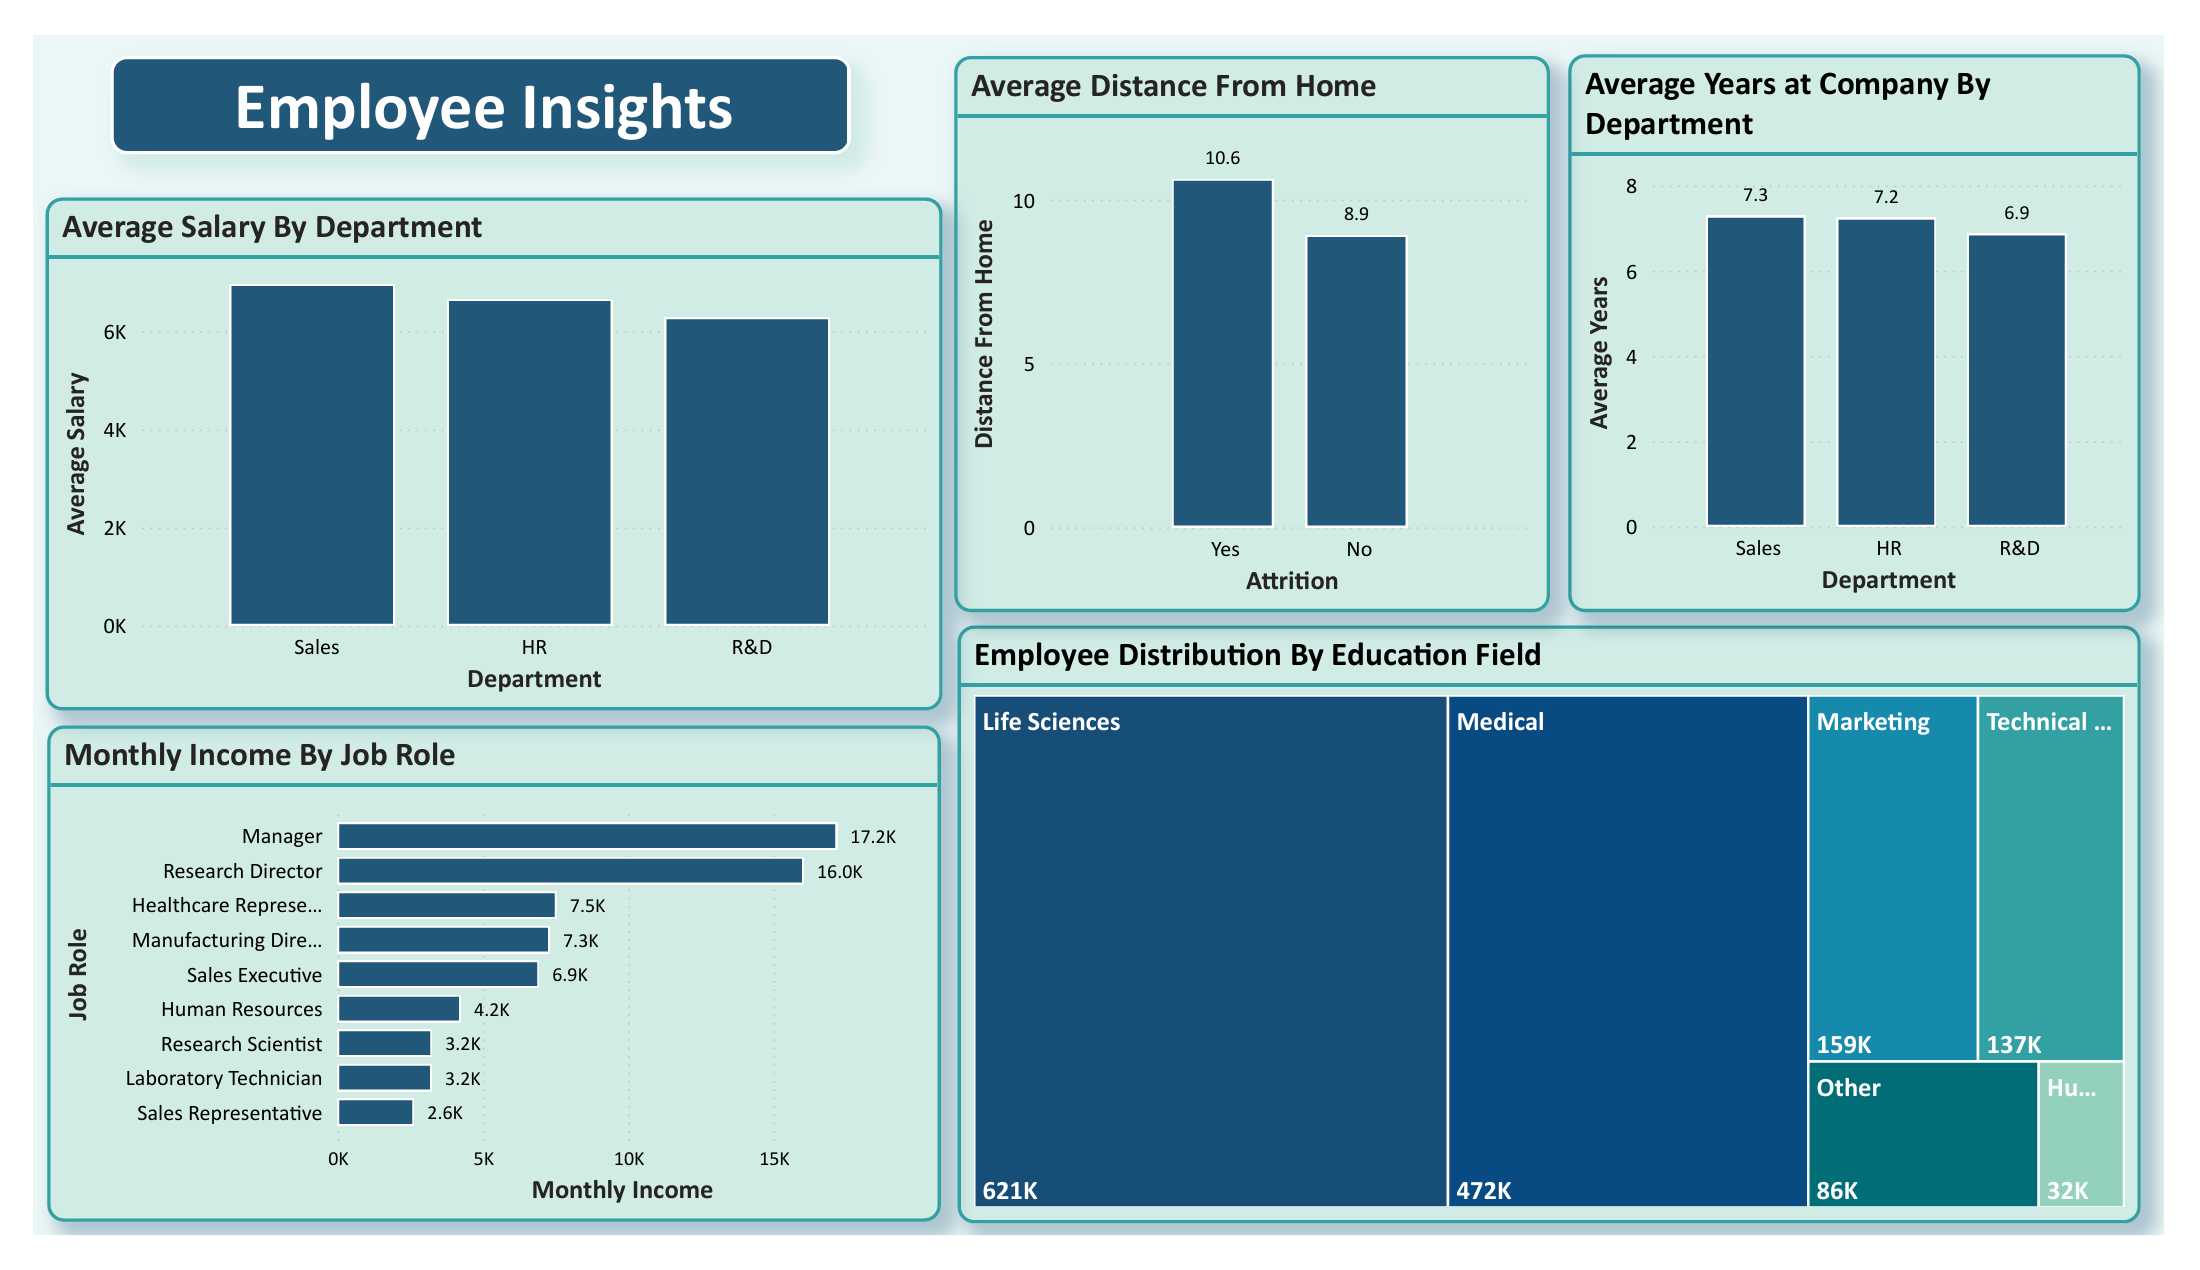

The page's visual inventory and layout, read from the dashboard file:
{"tool":"powerbi","page":{"name":"Employee Insights","canvas":[1280,720],"ordinal":1},"visuals":[{"type":"columnChart","title":"Average Salary By Department","fields":{"Category":["HR data.Department"],"Y":["HR data.avg_salary"]},"box":[7,97.3,539.3,307.9],"z":0},{"type":"barChart","title":"Monthly Income By Job Role","fields":{"Category":["HR data.Job Role"],"Y":["HR data.avg_salary"]},"box":[7.9,414.1,537.3,297.9],"z":1000},{"type":"treemap","title":"Employee Distribution By Education Field","fields":{"Values":["Sum(HR data.Employee Number)"],"Group":["HR data.Education Field"]},"box":[555.1,353.5,711.1,359.5],"z":2000},{"type":"clusteredColumnChart","title":"Average Years at Company By Department","fields":{"Y":["HR data.avg_experience"],"Category":["HR data.Department"]},"box":[921.6,10.9,344.6,334.7],"z":3000},{"type":"columnChart","title":"Average Distance From Home","fields":{"Y":["HR data.avg_distance"],"Category":["HR data.Attrition"]},"box":[553,12,358,334],"z":4000},{"type":"textbox","title":"Employee Insights","box":[45.7,11.9,444.9,58.6],"z":5000}]}

Visuals, with their boxes in screenshot pixels (x1, y1, x2, y2), scaled from the page's 1280x720 canvas onto the 2200x1270 screenshot:
"Average Salary By Department" columnChart: region(12, 172, 939, 715)
"Monthly Income By Job Role" barChart: region(14, 730, 937, 1256)
"Employee Distribution By Education Field" treemap: region(954, 624, 2176, 1258)
"Average Years at Company By Department" clusteredColumnChart: region(1584, 19, 2176, 610)
"Average Distance From Home" columnChart: region(950, 21, 1566, 610)
"Employee Insights" textbox: region(79, 21, 843, 124)
